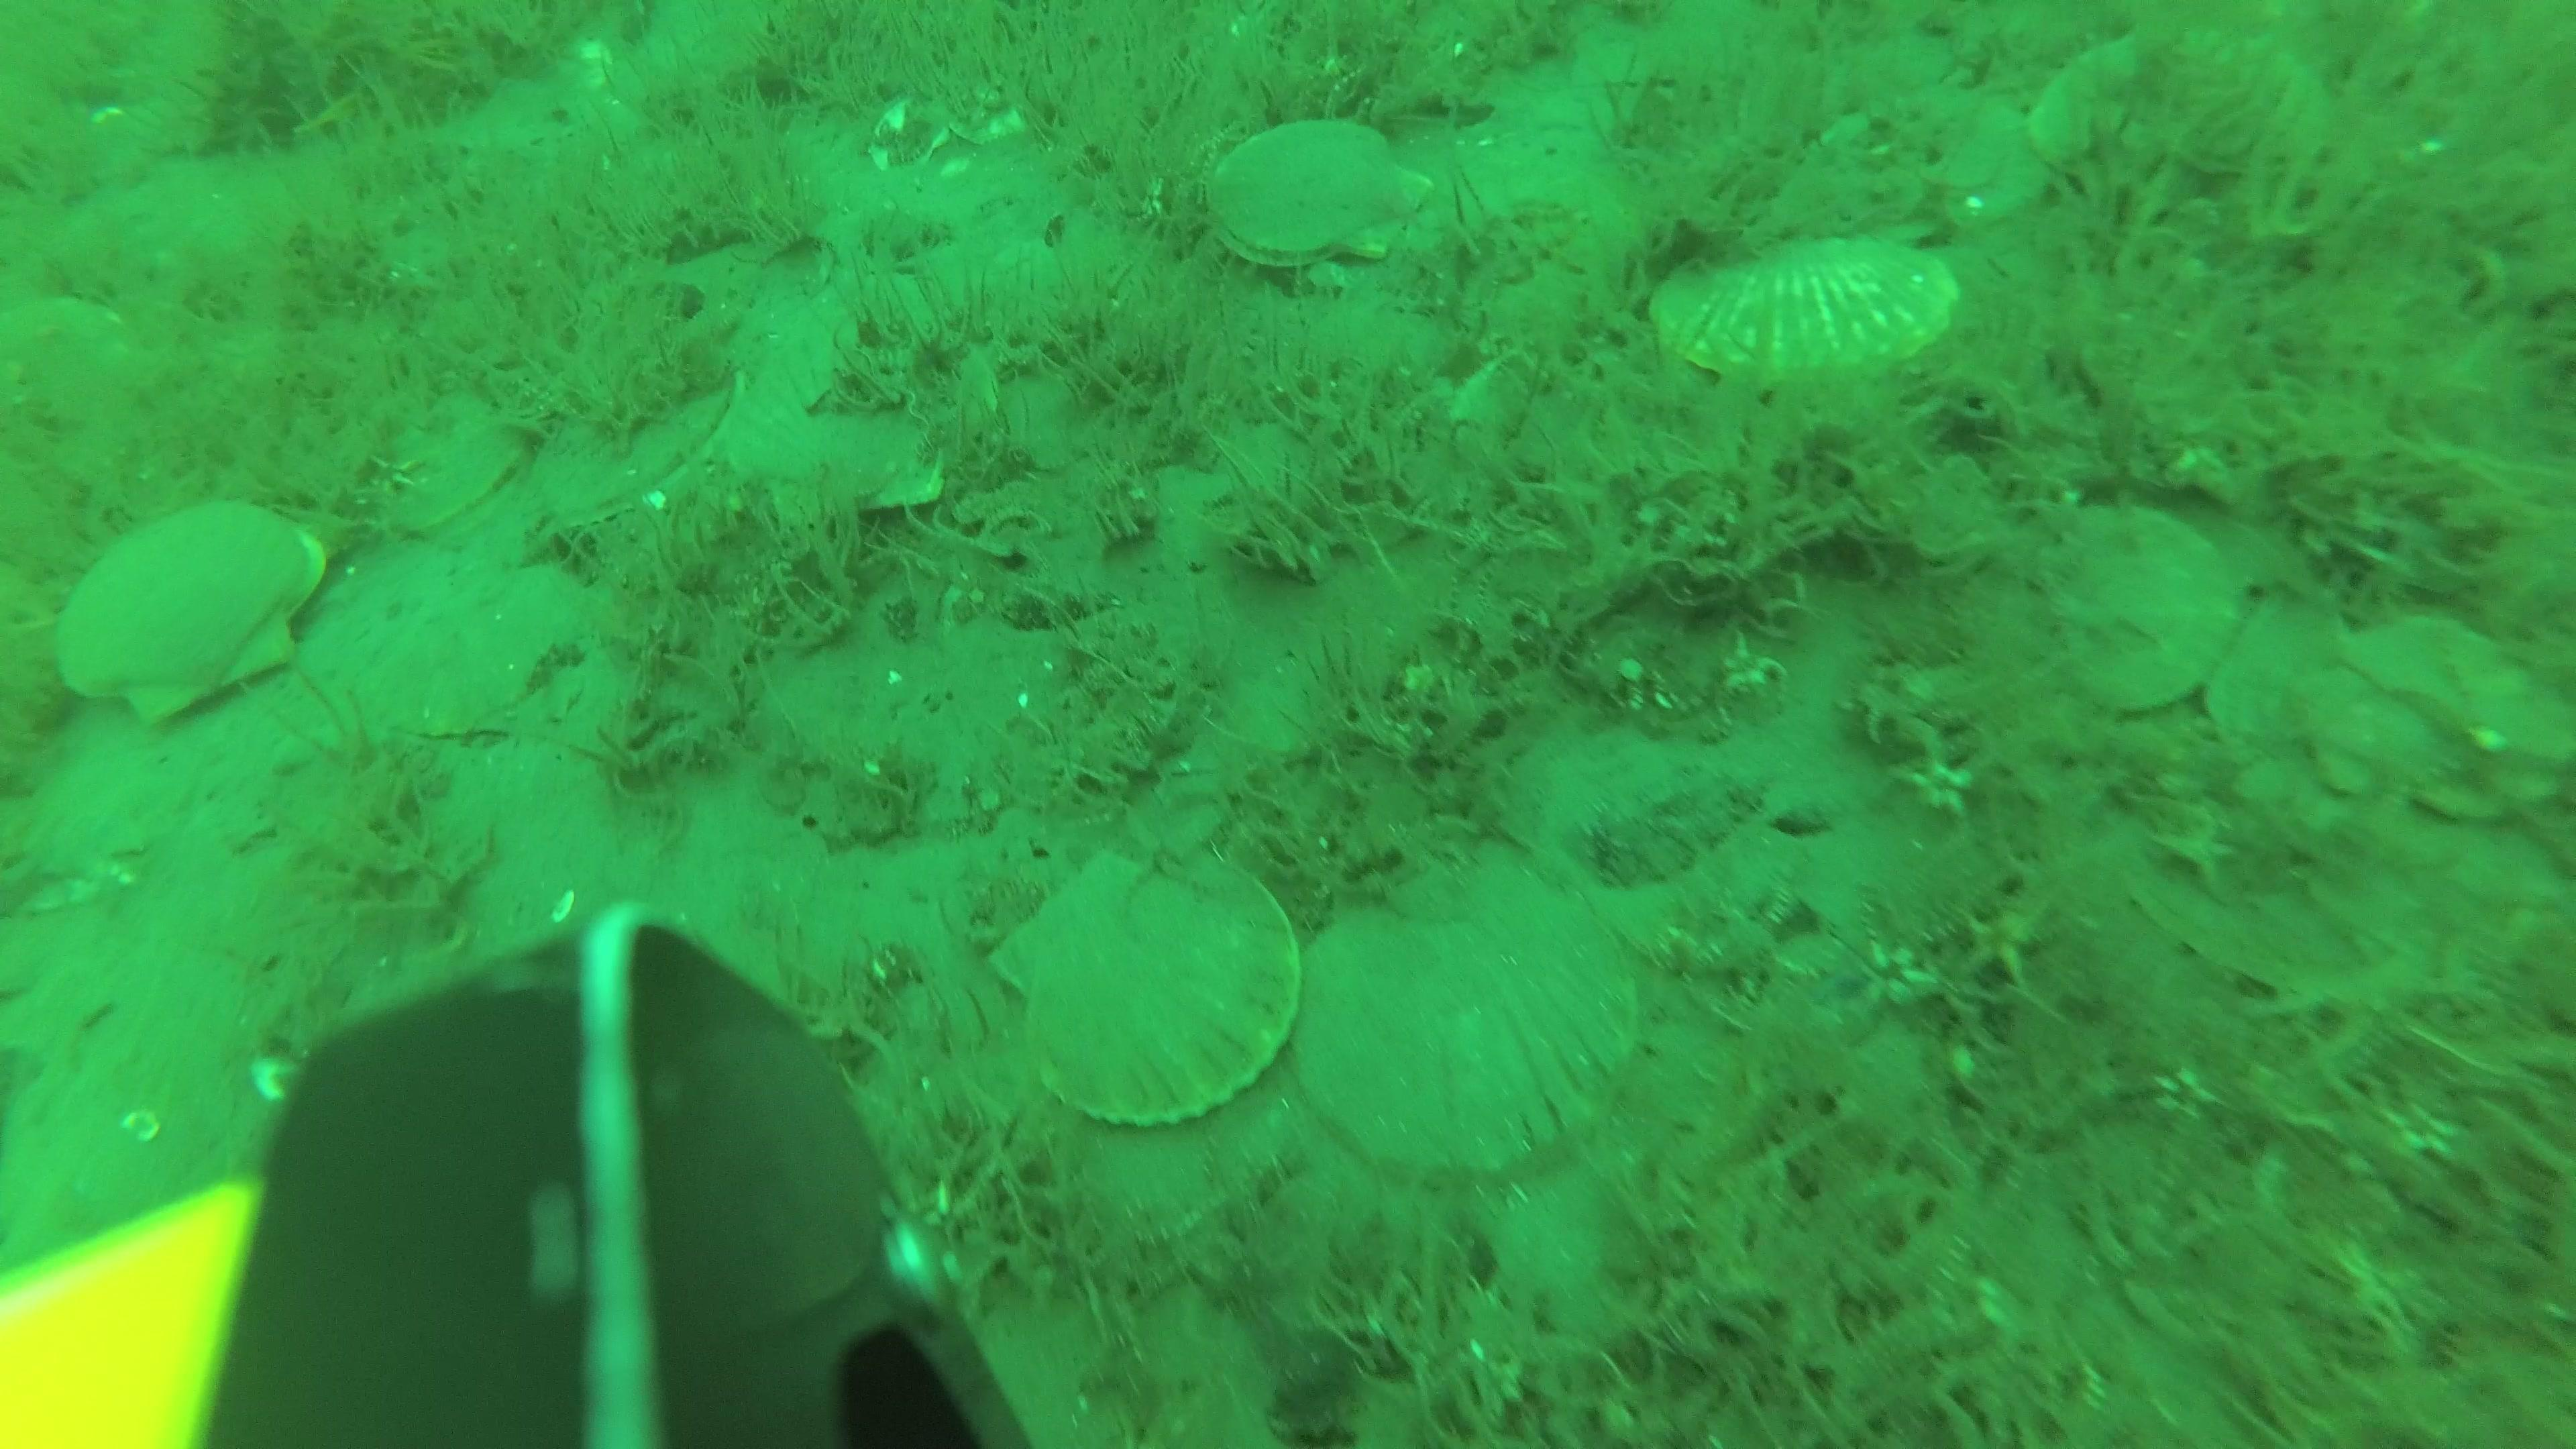scallop: (1307, 855, 1644, 1169), (994, 844, 1292, 1122), (51, 499, 327, 722), (724, 322, 989, 525), (1649, 226, 1960, 382), (2029, 27, 2328, 182), (2038, 502, 2227, 717), (1201, 117, 1437, 264)
